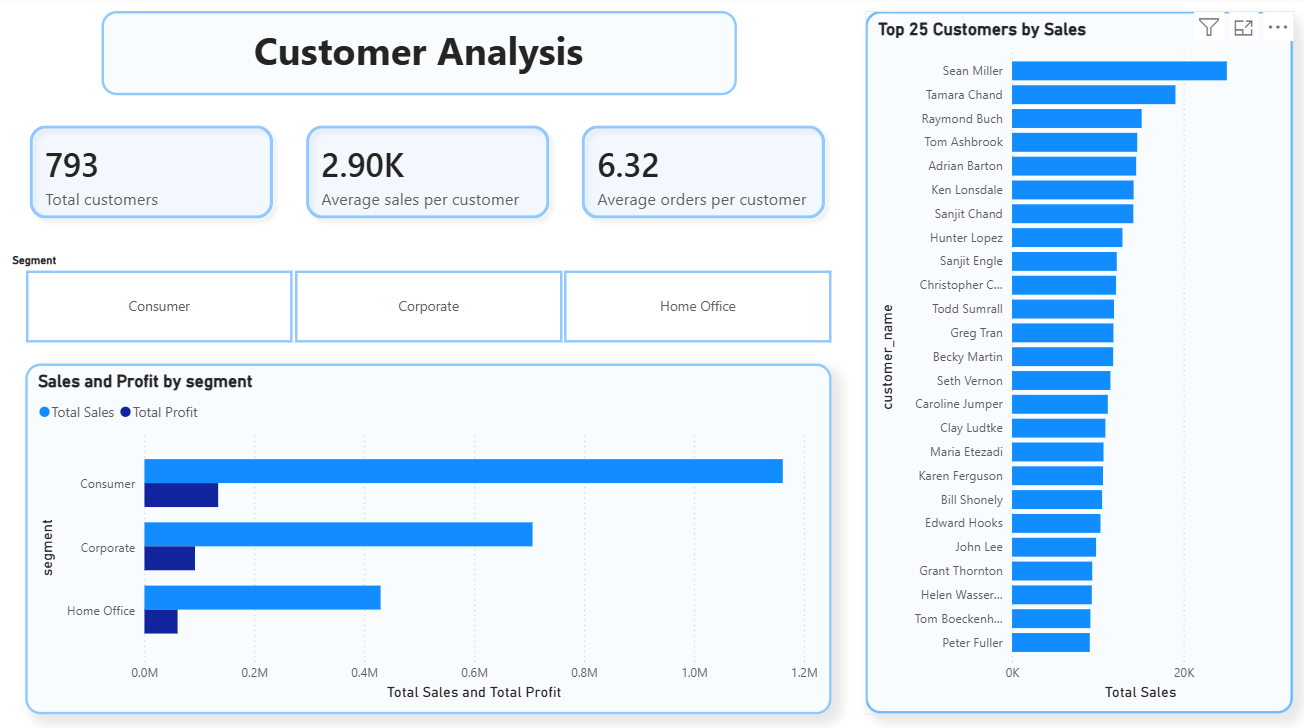

The dashboard page shown, as its layout file describes it:
{"tool":"powerbi","page":{"name":"Customer analysis","canvas":[1280,720],"ordinal":2},"visuals":[{"type":"barChart","title":"Top 25 Customers by Sales","fields":{"Category":["dimensiune_client.customer_name"],"Y":["fact_table.Total Sales"]},"box":[848,15.1,418.5,687.5],"z":0},{"type":"clusteredBarChart","title":"Sales and Profit by segment","fields":{"Y":["fact_table.Total Sales","fact_table.Total Profit"],"Category":["dimensiune_client.segment"]},"box":[26.1,359.5,789,343.1],"z":1000},{"type":"cardVisual","fields":{"Data":["dimensiune_client.Total customers","dimensiune_client.Average sales per customer","dimensiune_client.Average orders per customer"]},"box":[1.4,97.4,838.4,149.6],"z":2000},{"type":"slicer","fields":{"Values":["dimensiune_client.segment"]},"box":[0,247,838.4,98.8],"z":3000},{"type":"textbox","box":[100.2,15.1,621.6,82.3],"z":4000}]}

Visuals, with their boxes in screenshot pixels (x1, y1, x2, y2), scaled from the page's 1280x720 canvas onto the 1304x728 screenshot:
"Top 25 Customers by Sales" barChart: rect(864, 15, 1290, 710)
"Sales and Profit by segment" clusteredBarChart: rect(27, 363, 830, 710)
cardVisual - dimensiune_client.Total customers x dimensiune_client.Average sales per customer: rect(1, 98, 856, 250)
slicer - dimensiune_client.segment: rect(0, 250, 854, 350)
textbox: rect(102, 15, 735, 98)
